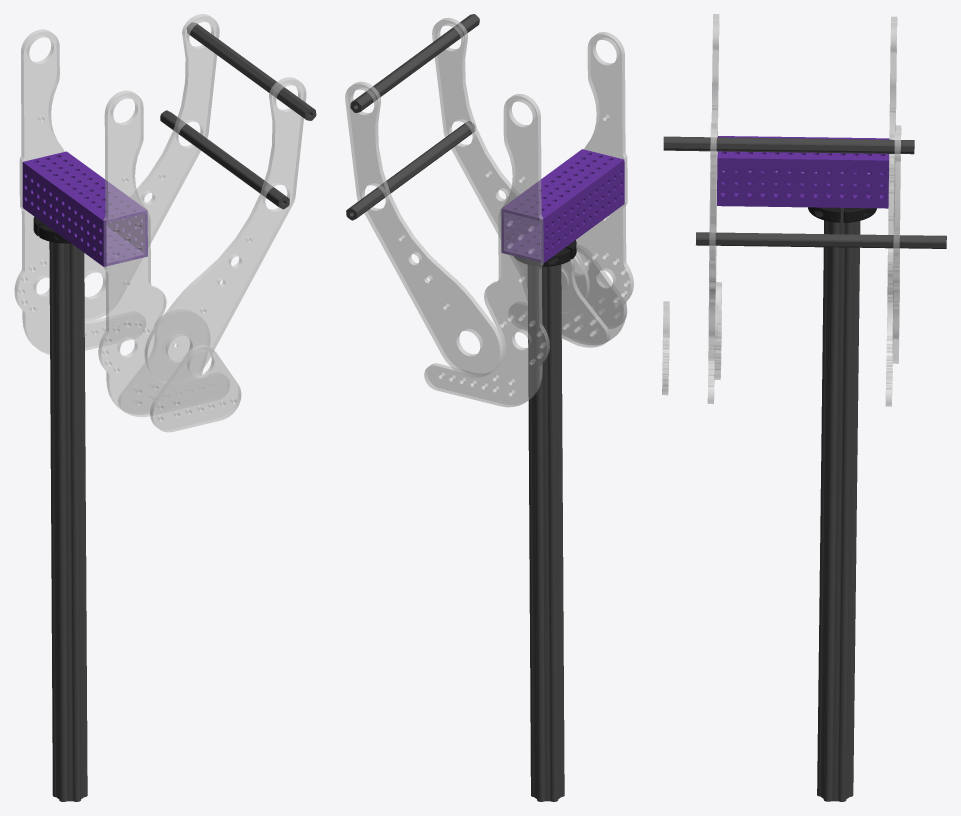
The picture shows the model from 3 angles, left to right: view 1: azimuth 30°, elevation 25°; view 2: azimuth 150°, elevation 25°; view 3: azimuth 270°, elevation 25°; orthographic projection. The views are drawn at different scales.
Visible parts, largest first — view 1: Part 2 (×2), Part 1 (×2), SplineXL Tube (WCP-0918), Tube 2"x2"x6.5", Part 5, Part 3, 1/2" ThunderHex - 9.5" (×2); view 2: Part 2 (×2), Part 1 (×2), SplineXL Tube (WCP-0918), Tube 2"x2"x6.5", 1/2" ThunderHex - 9.5" (×2), Part 3, Part 5; view 3: SplineXL Tube (WCP-0918), Tube 2"x2"x6.5", 1/2" ThunderHex - 9.5" (×2), Part 2 (×2), Part 1 (×2), Part 3, Part 5.
Boxes of the visible parts, x1,y1,x2,y2 form: Part 2 (×2): (14,29,229,417); Part 1 (×2): (84,14,306,383); SplineXL Tube (WCP-0918): (49,241,87,801); Tube 2"x2"x6.5": (22,151,147,266); Part 5: (150,345,241,432); Part 3: (118,309,210,414); 1/2" ThunderHex - 9.5" (×2): (160,22,316,209); Part 2 (×2): (424,32,633,407); Part 1 (×2): (345,17,589,377); SplineXL Tube (WCP-0918): (528,264,564,801); Tube 2"x2"x6.5": (501,149,624,263); 1/2" ThunderHex - 9.5" (×2): (346,14,479,220); Part 3: (521,259,609,347); Part 5: (561,245,627,328); SplineXL Tube (WCP-0918): (817,208,860,801); Tube 2"x2"x6.5": (717,136,889,208); 1/2" ThunderHex - 9.5" (×2): (663,136,946,248); Part 2 (×2): (707,14,897,406); Part 1 (×2): (708,122,901,363); Part 3: (714,282,721,379); Part 5: (662,301,669,395).
Size of the model in its own units: 0.2393 by 0.8253 by 0.2739.
